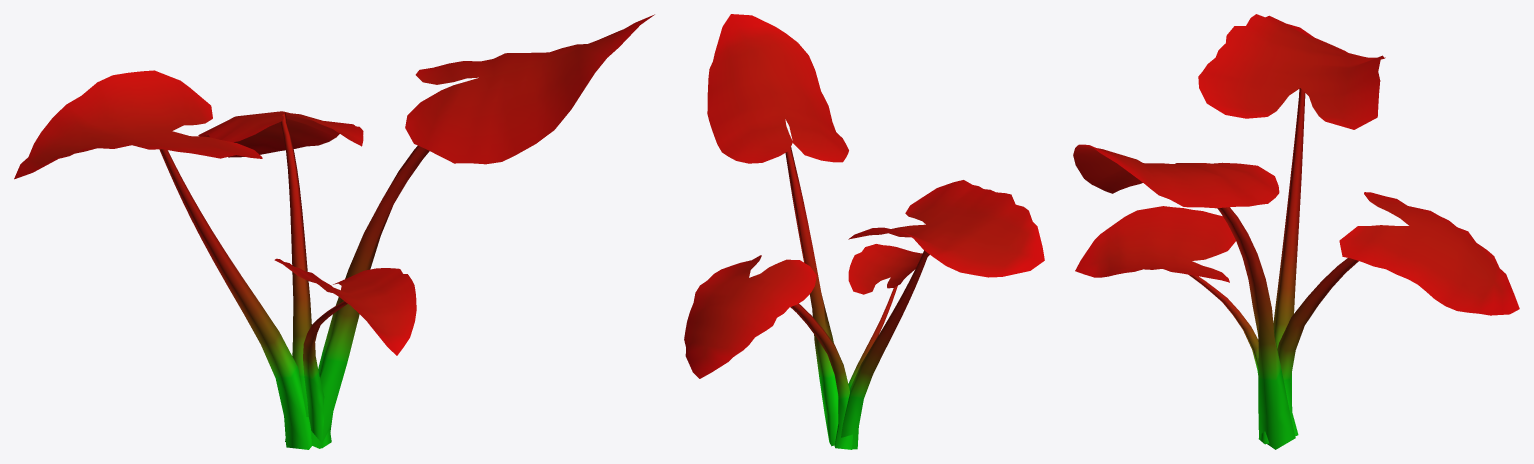
The model's file is F01_Taro_02.fbx.
3 renders of one model, left to right at view 1: azimuth 30°, elevation 25°; view 2: azimuth 150°, elevation 25°; view 3: azimuth 270°, elevation 25°, orthographic. The views are drawn at different scales.
Parts seen in each view (by area): view 1: _fe78_Var2_LOD0; view 2: _fe78_Var2_LOD0; view 3: _fe78_Var2_LOD0.
Part boxes in pixels (<box>): _fe78_Var2_LOD0: <box>14,14,654,449</box>; _fe78_Var2_LOD0: <box>684,14,1044,449</box>; _fe78_Var2_LOD0: <box>1073,14,1519,449</box>.
Size of the model in its own units: 141 by 112 by 115.
